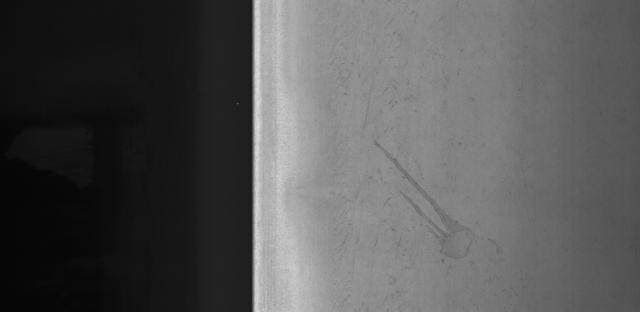water_spot: (372, 132, 512, 270)
